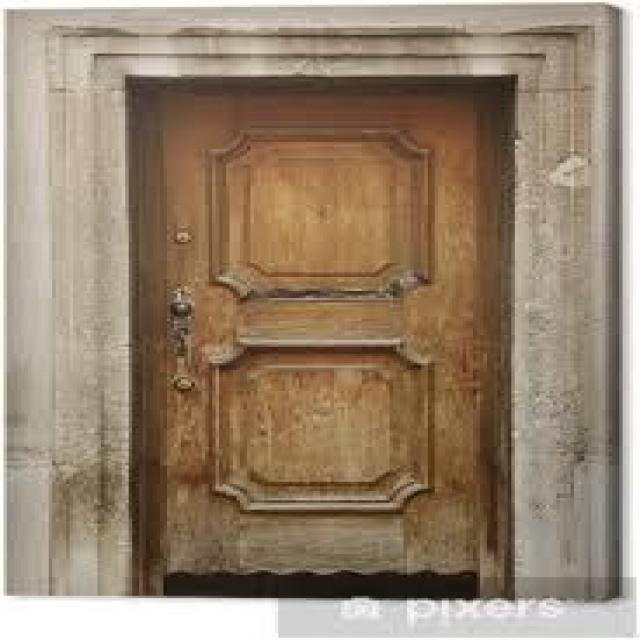Door: (111, 70, 512, 596)
